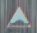Speed Breaker ahead: (3, 4, 33, 29)
